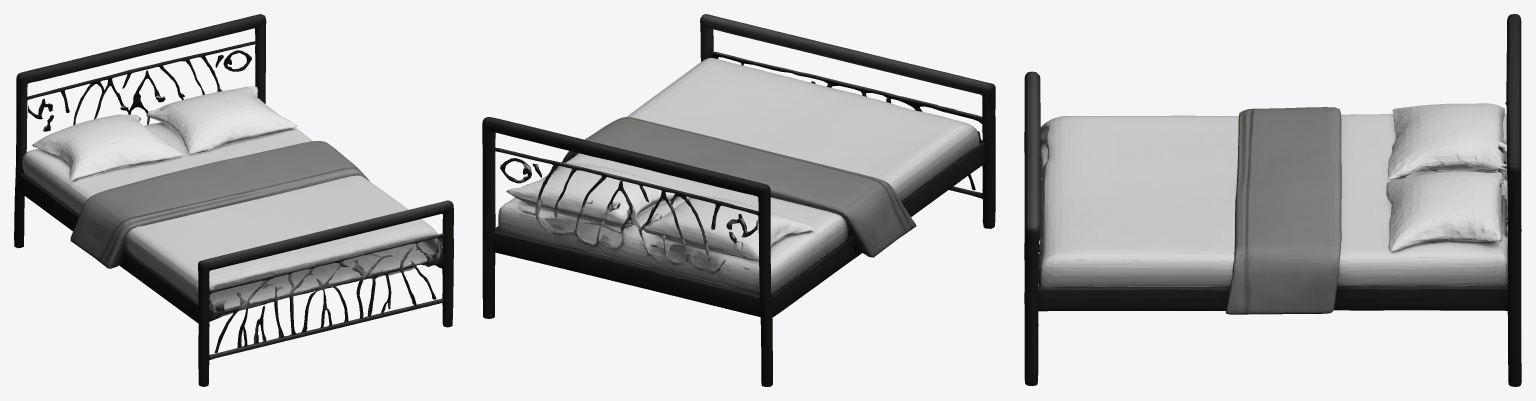
3 views of the same model, side by side, from view 1: azimuth 30°, elevation 25°; view 2: azimuth 150°, elevation 25°; view 3: azimuth 270°, elevation 25° (orthographic). The views are drawn at different scales.
Parts seen in each view (by area): view 1: world; view 2: world; view 3: world.
Part boxes in pixels (x1=…): world: x1=14, y1=14, x2=453, y2=386; world: x1=482, y1=14, x2=995, y2=386; world: x1=1024, y1=14, x2=1521, y2=386.
Size of the model in its own units: 1.51 by 0.9 by 1.83.
Materials: 1 (1 with a texture image).
